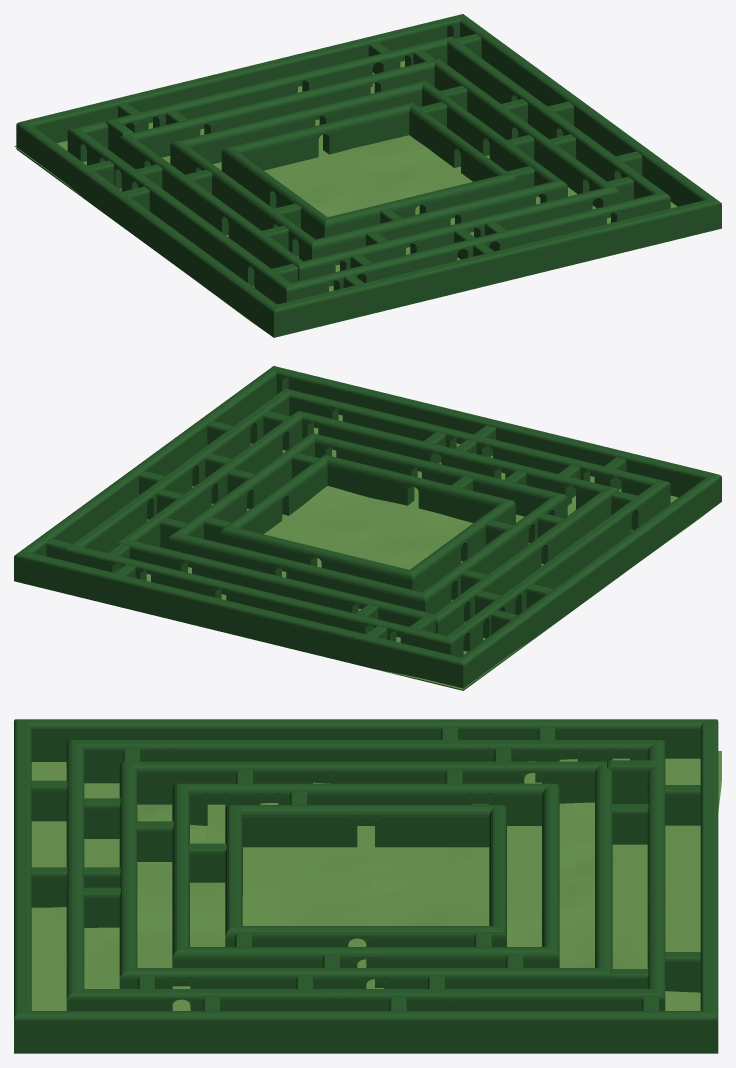
The model's file is Maze 1.fbx.
3 views of the same model, one above another, from view 1: azimuth 30°, elevation 25°; view 2: azimuth 150°, elevation 25°; view 3: azimuth 270°, elevation 25° (orthographic). The views are drawn at different scales.
Visible parts, largest first — view 1: Walls 1.001, Walls 2.001, Walls 3.001, Walls 4.002, Walls 5.001, Floor.002; view 2: Walls 1.001, Walls 2.001, Walls 3.001, Walls 4.002, Walls 5.001, Floor.002; view 3: Floor.002, Walls 1.001, Walls 2.001, Walls 3.001, Walls 4.002, Walls 5.001, Bush Blocker.020, Bush Blocker.004, Bush Blocker.005, Bush Blocker.021, Bush Blocker.002, Bush Blocker.003 (+6 smaller).
Boxes of the visible parts, left/top/right/bottom form: Walls 1.001: left=16, top=14, right=721, bottom=337; Walls 2.001: left=67, top=36, right=670, bottom=304; Walls 3.001: left=119, top=58, right=619, bottom=286; Walls 4.002: left=170, top=80, right=567, bottom=265; Walls 5.001: left=221, top=102, right=516, bottom=239; Floor.002: left=14, top=61, right=677, bottom=332; Walls 1.001: left=14, top=366, right=721, bottom=690; Walls 2.001: left=65, top=388, right=670, bottom=657; Walls 3.001: left=117, top=410, right=618, bottom=637; Walls 4.002: left=168, top=433, right=567, bottom=613; Walls 5.001: left=220, top=455, right=515, bottom=591; Floor.002: left=146, top=414, right=715, bottom=689; Floor.002: left=31, top=751, right=721, bottom=1010; Walls 1.001: left=14, top=719, right=718, bottom=1053; Walls 2.001: left=66, top=740, right=665, bottom=1010; Walls 3.001: left=119, top=761, right=612, bottom=1010; Walls 4.002: left=172, top=783, right=559, bottom=988; Walls 5.001: left=225, top=805, right=506, bottom=967; Bush Blocker.020: left=607, top=760, right=657, bottom=803; Bush Blocker.004: left=31, top=780, right=67, bottom=821; Bush Blocker.005: left=136, top=821, right=173, bottom=861; Bush Blocker.021: left=611, top=804, right=648, bottom=844; Bush Blocker.002: left=84, top=887, right=120, bottom=927; Bush Blocker.003: left=84, top=798, right=120, bottom=838.
Size of the model in its own units: 5984 by 388 by 5981.
